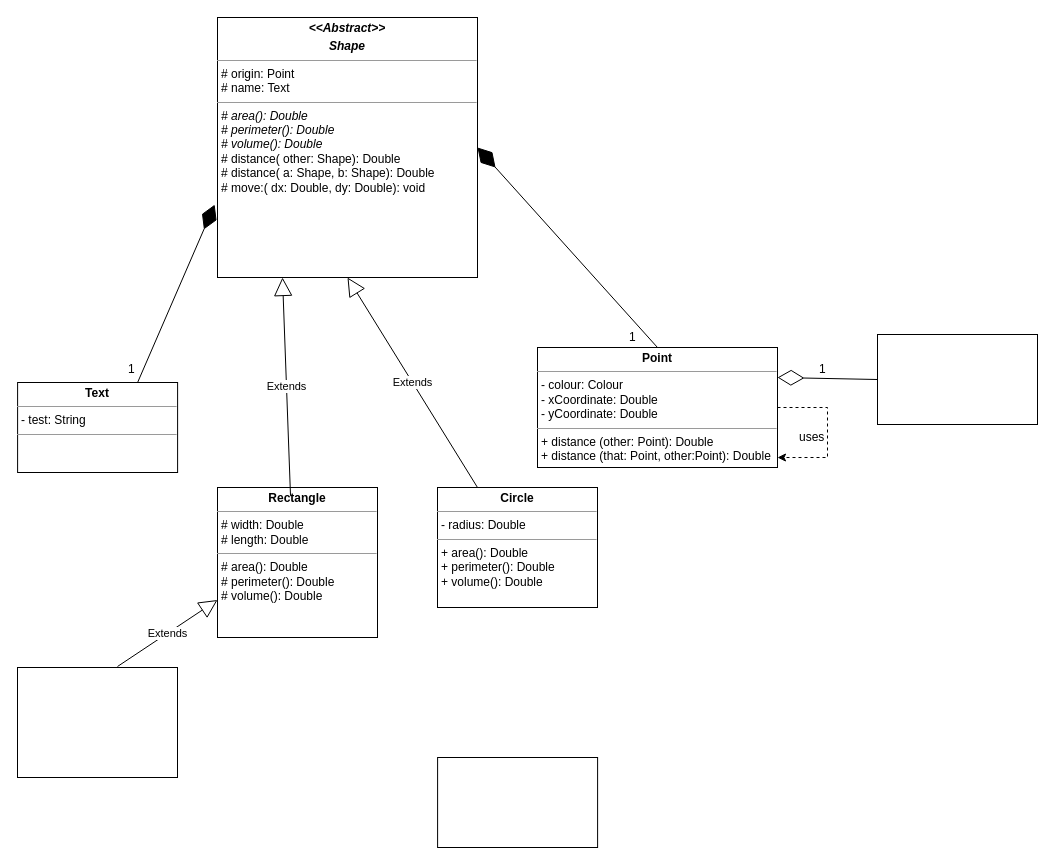
Image size: 1055x865. Some labels were removed from this diagram. Here are the shapes that lost their labels. From the top down, the box of each, then its label:
(876, 334, 1038, 424): Colour - colour: String
(16, 666, 178, 778): Prism - height: Double + area(): Double + volume(): Double
(437, 756, 598, 848): Geometry + field: Type + method(): Type
